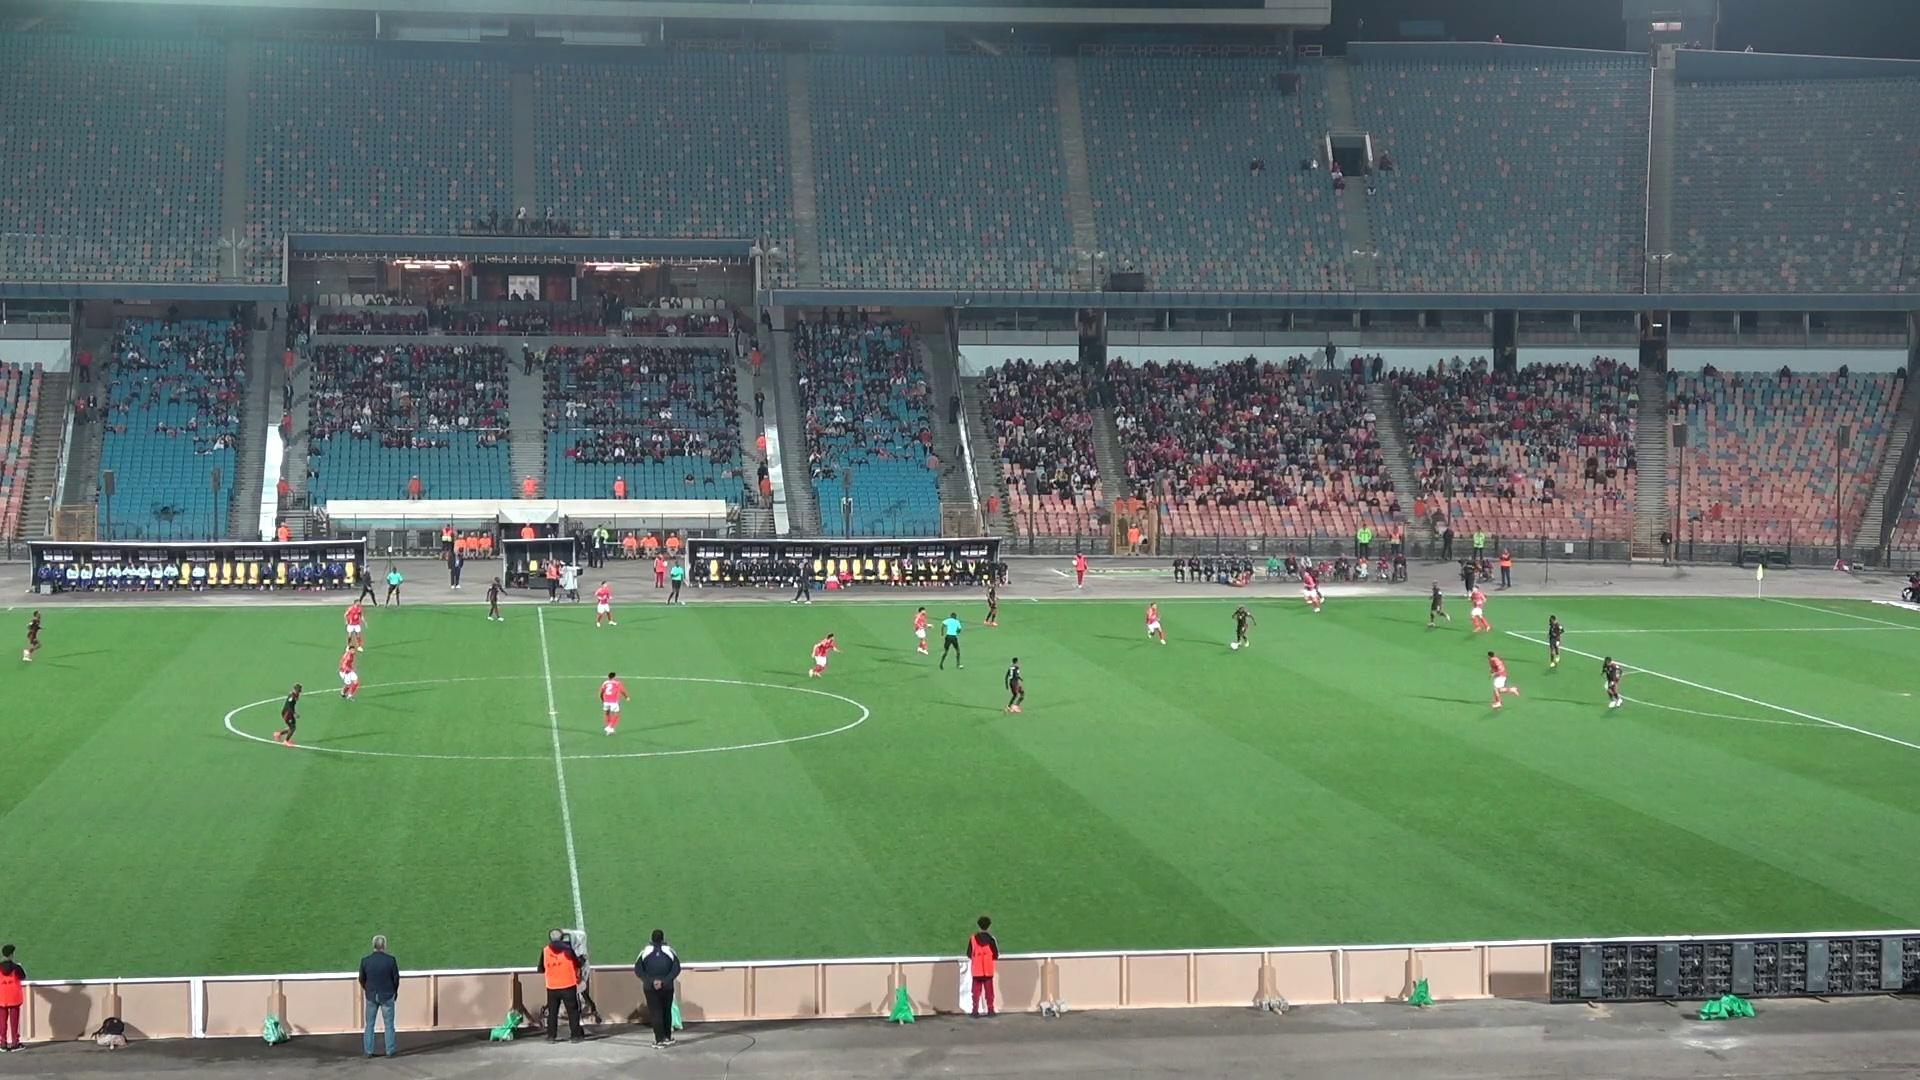Ball: (1226, 633, 1247, 651)
Refree: (939, 612, 963, 669), (666, 554, 688, 604), (381, 566, 404, 605)
Team1: (1487, 651, 1520, 709), (599, 673, 629, 735), (343, 592, 371, 651), (807, 633, 837, 676), (340, 644, 360, 700), (913, 607, 935, 655), (1468, 587, 1490, 633), (1302, 571, 1324, 612), (1145, 603, 1166, 644), (595, 582, 613, 625)
Team2: (272, 683, 303, 746), (1600, 655, 1625, 708), (1229, 604, 1255, 649), (1004, 658, 1025, 712), (21, 609, 42, 662), (1427, 582, 1451, 628), (1547, 615, 1564, 667), (487, 579, 505, 618), (982, 584, 1000, 626)
